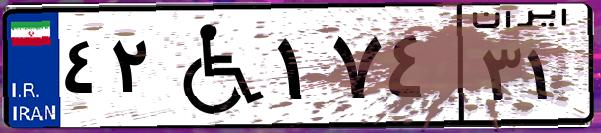1: (270, 28, 330, 110), (525, 38, 570, 115)
2: (110, 28, 158, 98)
3: (475, 38, 525, 113)
4: (385, 28, 445, 110), (57, 26, 110, 100)
7: (330, 28, 385, 110)
ژ (معلولین و جانبازان): (158, 12, 270, 120)
